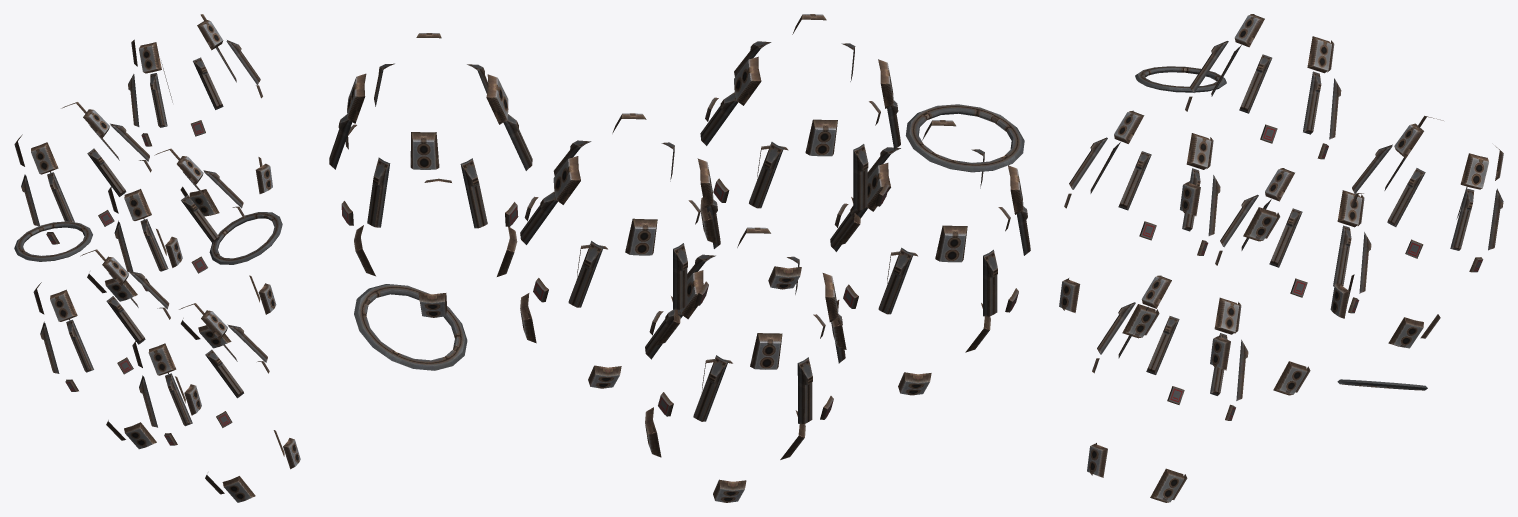
The model's file is prop_static_yao_container_02_05_0.glb.
3 views of the same model, side by side, from view 1: azimuth 30°, elevation 25°; view 2: azimuth 150°, elevation 25°; view 3: azimuth 270°, elevation 25° (orthographic). The views are drawn at different scales.
Visible parts, largest first — view 1: yao_container_02_05_LOD0; view 2: yao_container_02_05_LOD0; view 3: yao_container_02_05_LOD0.
Part boxes in pixels (x1,y1,x2,y2): yao_container_02_05_LOD0: (14, 14, 300, 502); yao_container_02_05_LOD0: (329, 14, 1030, 502); yao_container_02_05_LOD0: (1059, 14, 1503, 502).
Size of what is drawn, in the model's own units: 4.1 by 4.25 by 3.99.
1 material, 1 textured.
